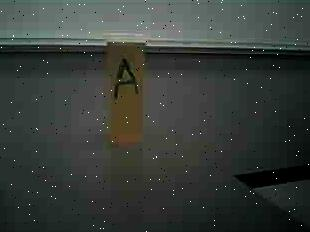Bottle A: (97, 30, 153, 154)
